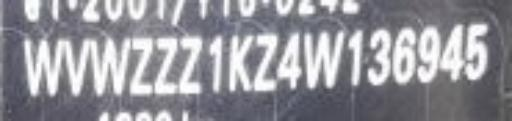letter: (18, 33, 66, 98), (298, 28, 346, 91), (88, 36, 132, 95), (434, 19, 468, 82), (462, 19, 494, 84), (362, 25, 392, 90), (274, 30, 304, 93), (224, 30, 254, 93), (61, 35, 91, 98), (176, 33, 204, 98), (414, 21, 442, 84), (390, 24, 418, 87), (152, 35, 180, 98), (128, 33, 154, 98), (252, 30, 278, 93), (343, 25, 367, 90), (204, 33, 224, 96)
